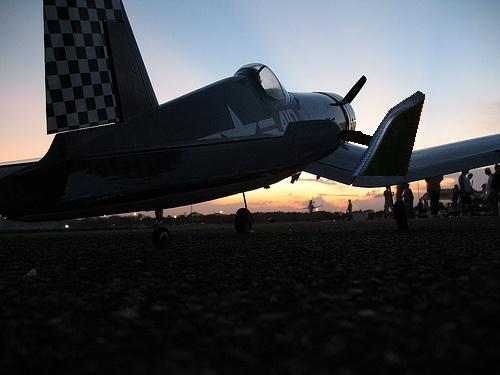tampered: (260, 92, 425, 176)
